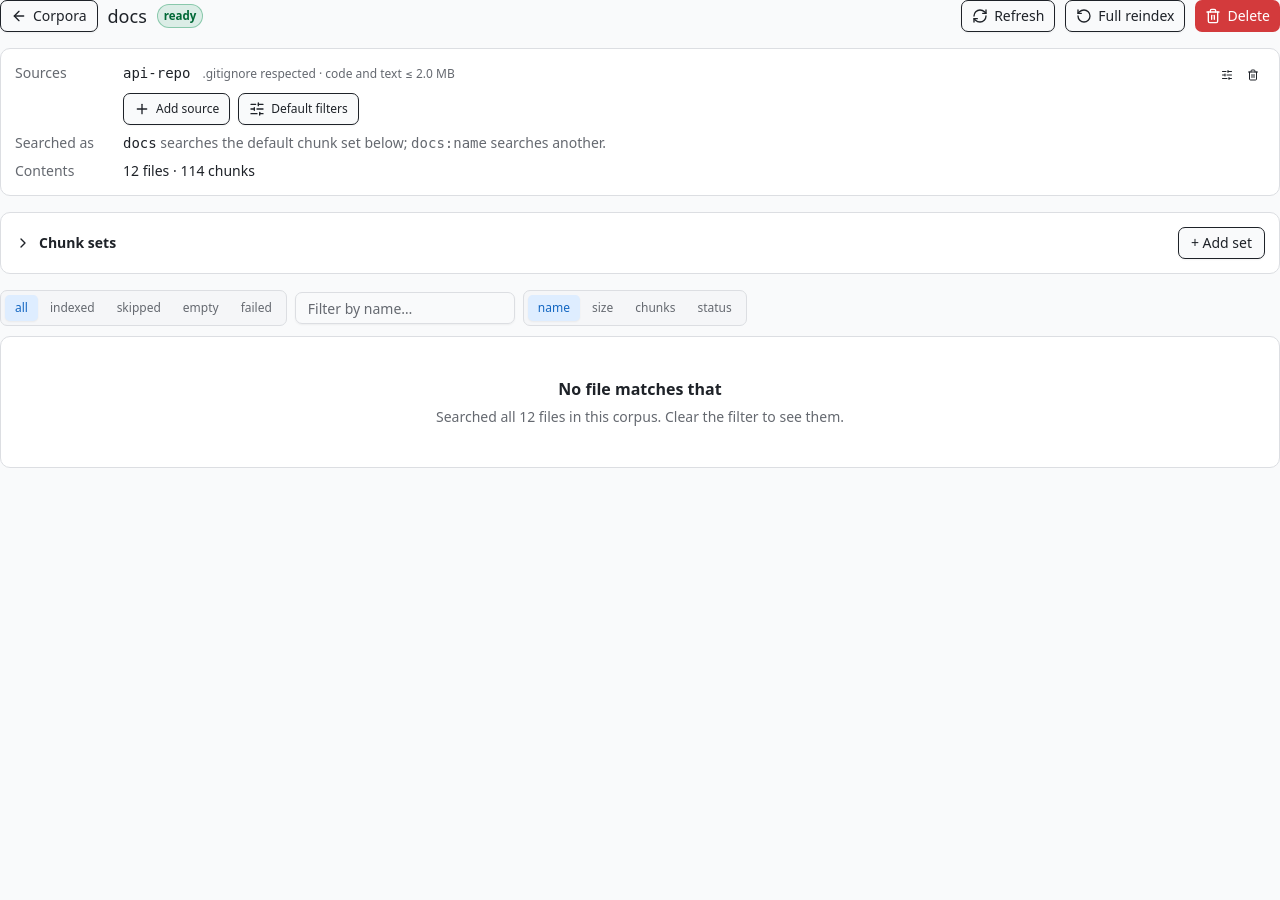
it: adding a source › warns before indexing the same folder twice
The width and height of the screenshot is (1280, 900).
Click the button "Add source" at (177, 109), box [123,93,230,125]
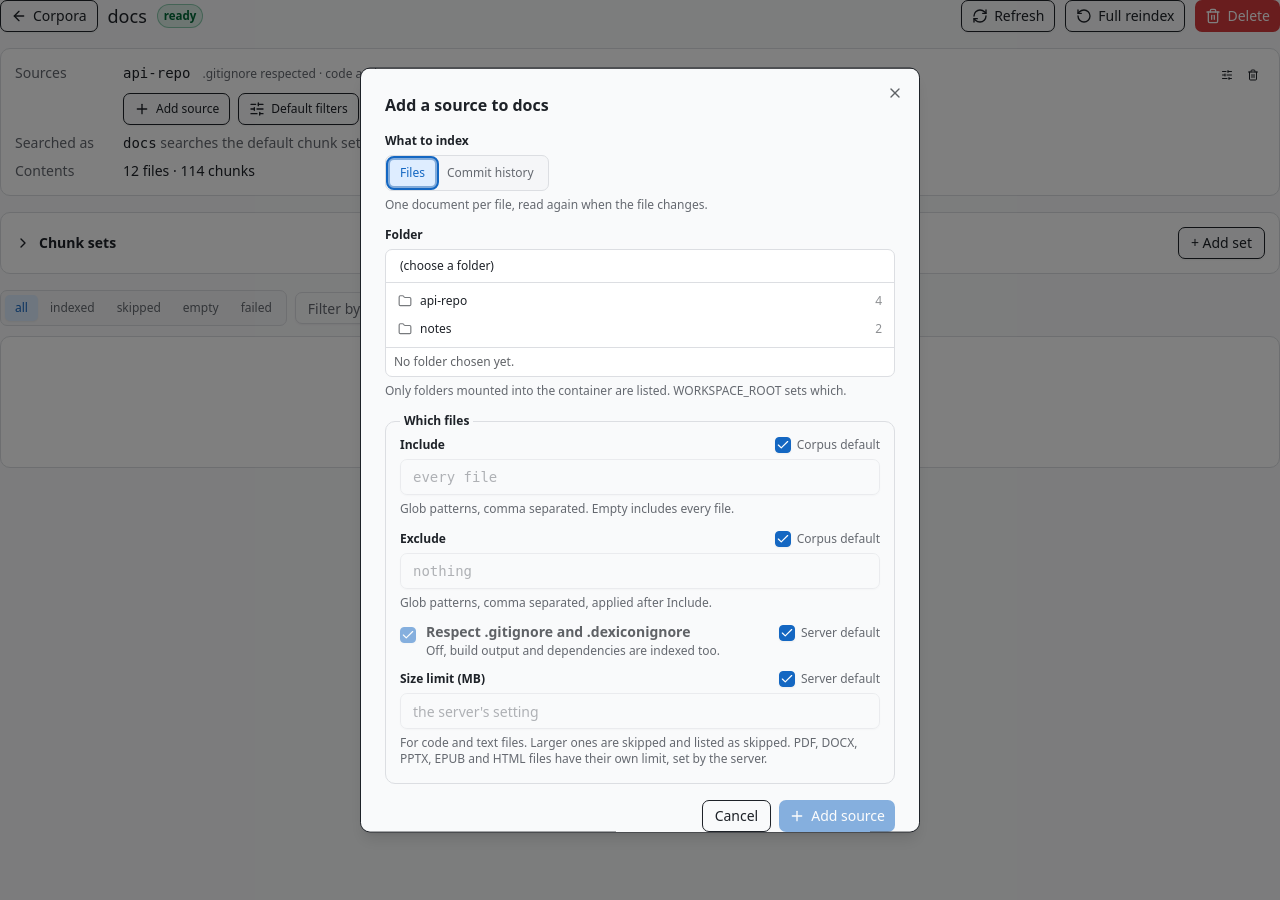
Click the button "api-repo 4" at (444, 300), box [390,286,890,314]
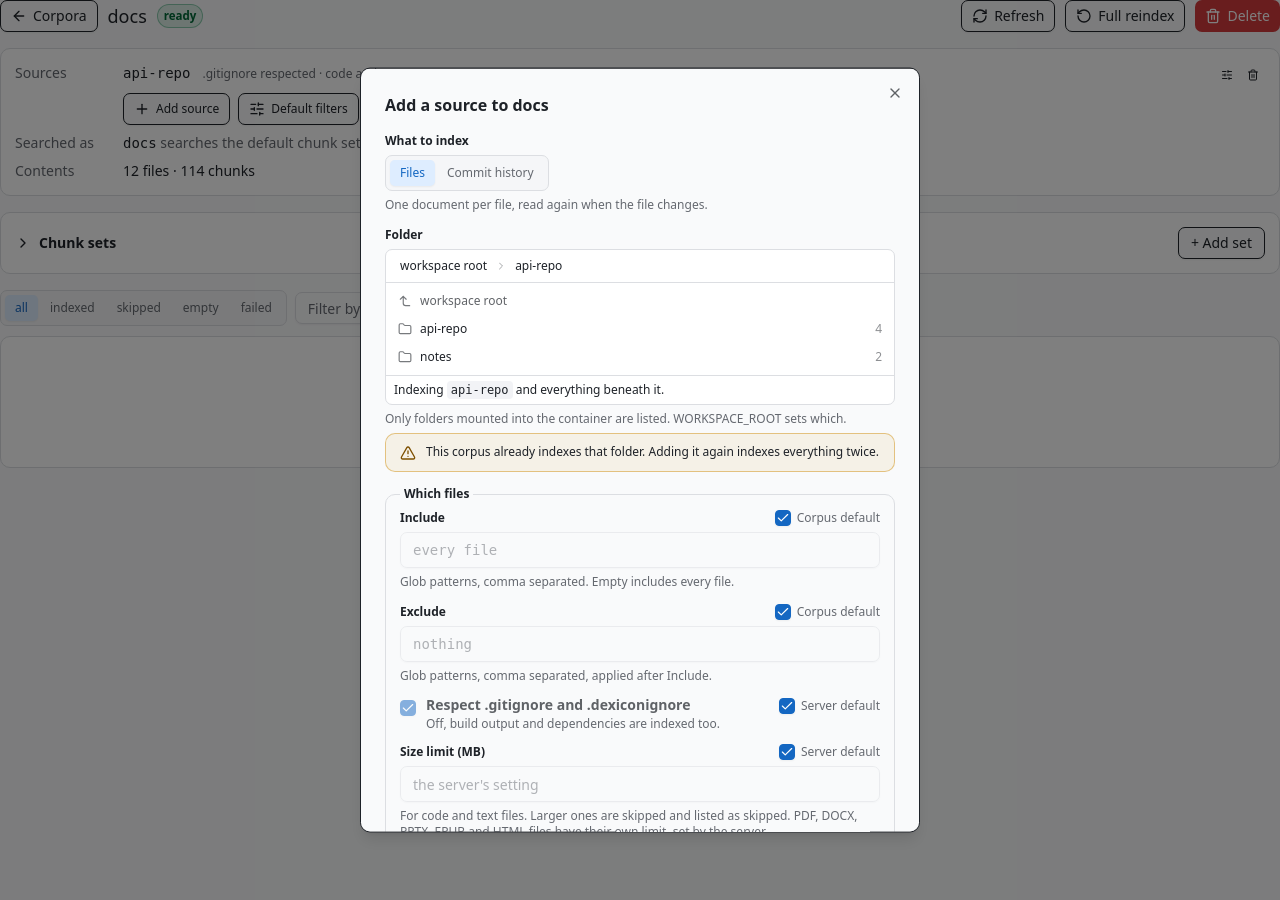
Result: the text "already indexes that folder" is shown at [426,442,879,460]
